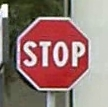stop: (16, 15, 88, 92)
